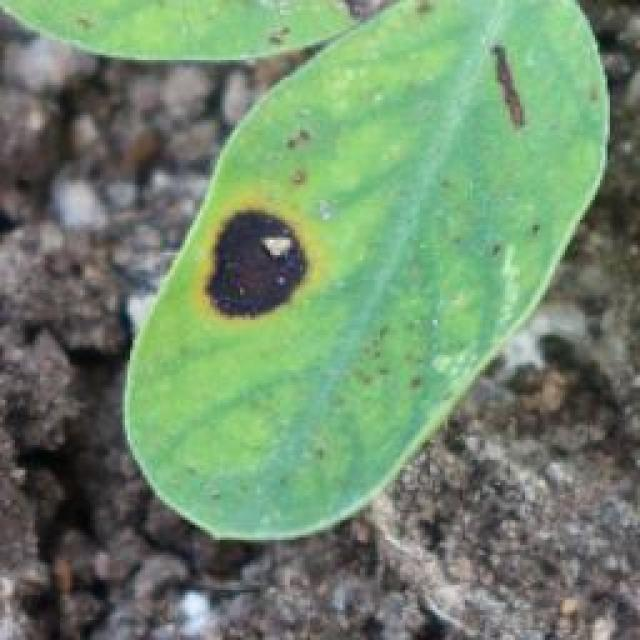Yellowish: (181, 147, 338, 350), (442, 15, 552, 178), (195, 0, 428, 56), (258, 101, 385, 203)
